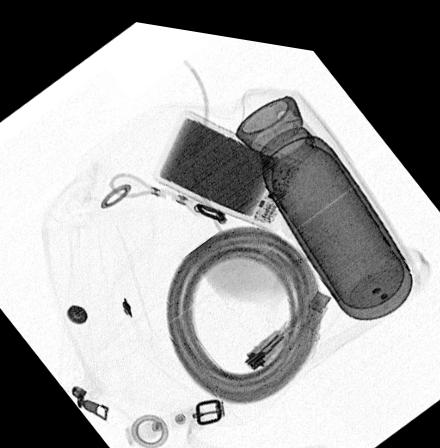Powerbank: (152, 99, 303, 219)
